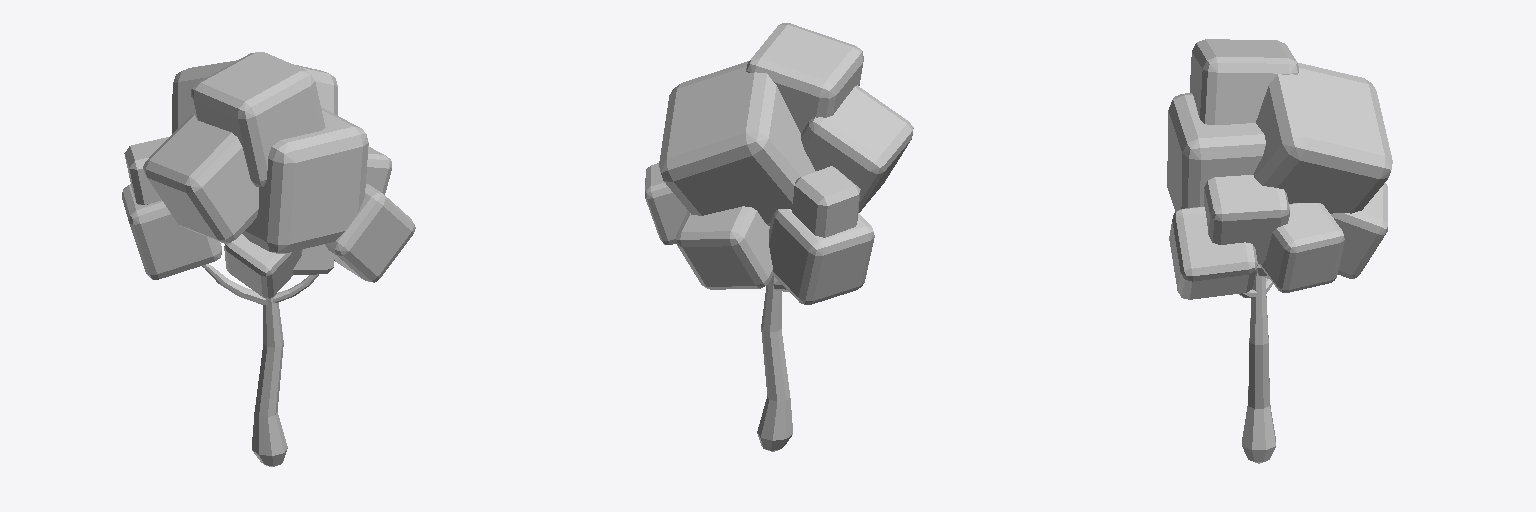
Rendered from Tree_2_D_Color1.obj.
3 renders of one model, left to right at view 1: azimuth 30°, elevation 25°; view 2: azimuth 150°, elevation 25°; view 3: azimuth 270°, elevation 25°, orthographic.
Parts seen in each view (by area): view 1: Tree_2_D_Color1; view 2: Tree_2_D_Color1; view 3: Tree_2_D_Color1.
Boxes of the visible parts, box(x1,y1,x2,y2) form: Tree_2_D_Color1: box(122, 52, 415, 466); Tree_2_D_Color1: box(645, 23, 913, 451); Tree_2_D_Color1: box(1167, 39, 1392, 463).
Bounding box in the file's own units: 4.74 × 8.09 × 4.03.